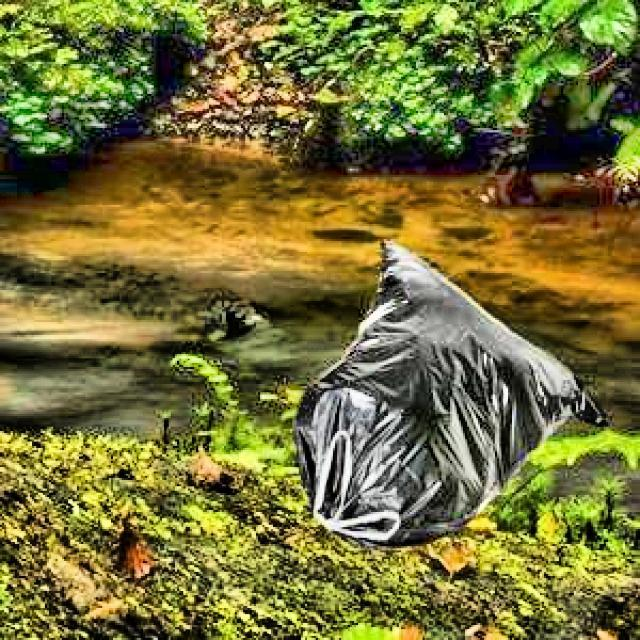Trashbag: (295, 272, 548, 516)
